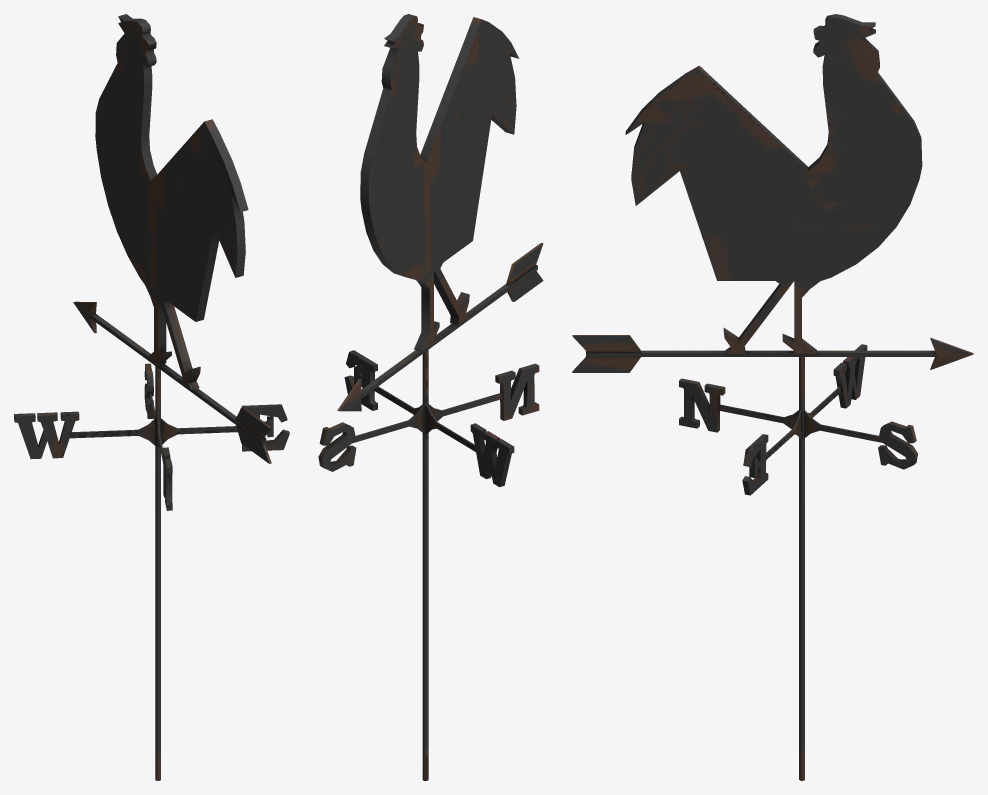
3 views of the same model, side by side, from view 1: azimuth 30°, elevation 25°; view 2: azimuth 150°, elevation 25°; view 3: azimuth 270°, elevation 25° (orthographic). The views are drawn at different scales.
Visible parts, largest first — view 1: body0_model0_lod0_mesh0; view 2: body0_model0_lod0_mesh0; view 3: body0_model0_lod0_mesh0.
Part boxes in pixels (<box>): body0_model0_lod0_mesh0: <box>14,14,289,780</box>; body0_model0_lod0_mesh0: <box>318,14,543,780</box>; body0_model0_lod0_mesh0: <box>572,14,973,780</box>.
Bounding box in the file's own units: 31.78 × 103 × 49.31.
1 material, 1 textured.
